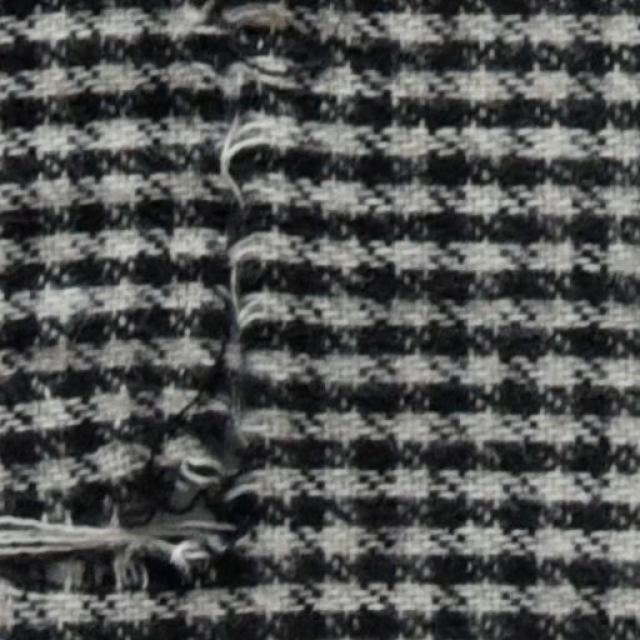Hole: (142, 451, 220, 551)
Snag: (150, 5, 276, 496), (0, 506, 249, 607)
